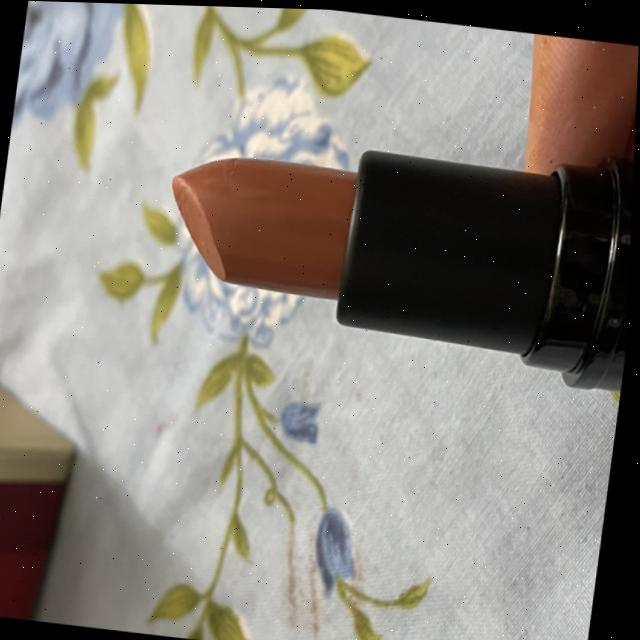lip stick: (134, 85, 637, 411)
